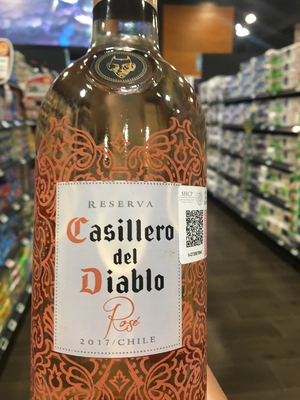casillero del diablo rose: (29, 31, 220, 400)
